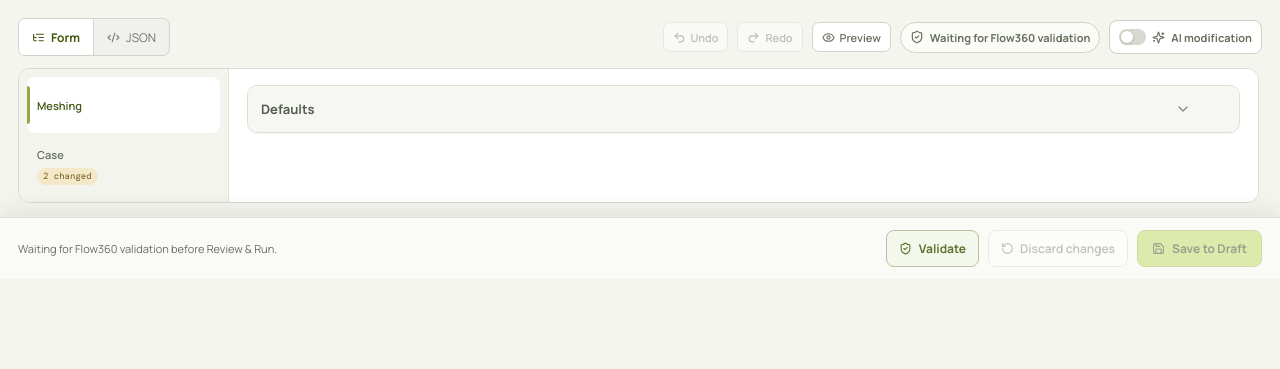
Draft parameter validation navigation › restores only the active Draft AI session and ignores a stale session load
Click the checkbox labelled "AI modification": coordinates (1186, 37) [1109,20,1262,54]
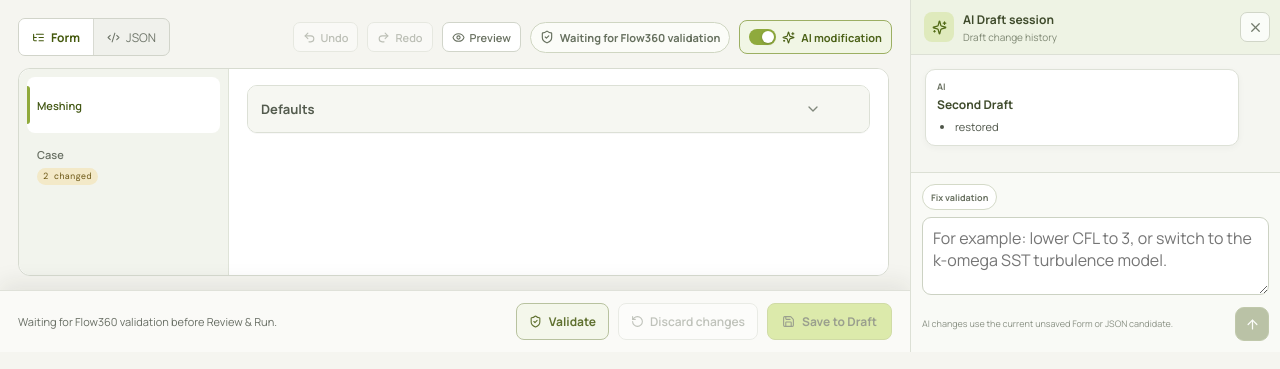
Result: the text "Second Draft" is shown at [937,96,1013,113]
